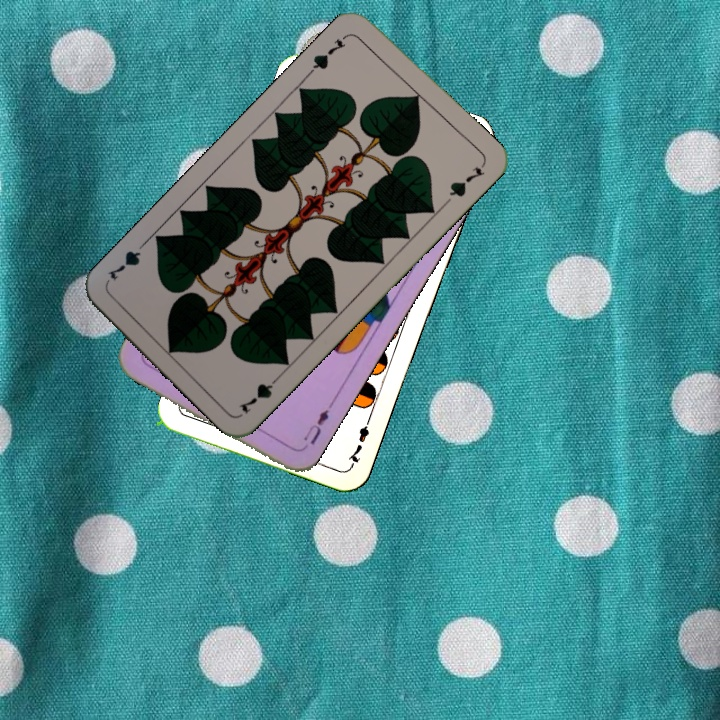E7: (344, 411, 374, 468)
EU: (297, 400, 335, 453)
G7: (234, 370, 284, 416), (305, 30, 351, 77)
